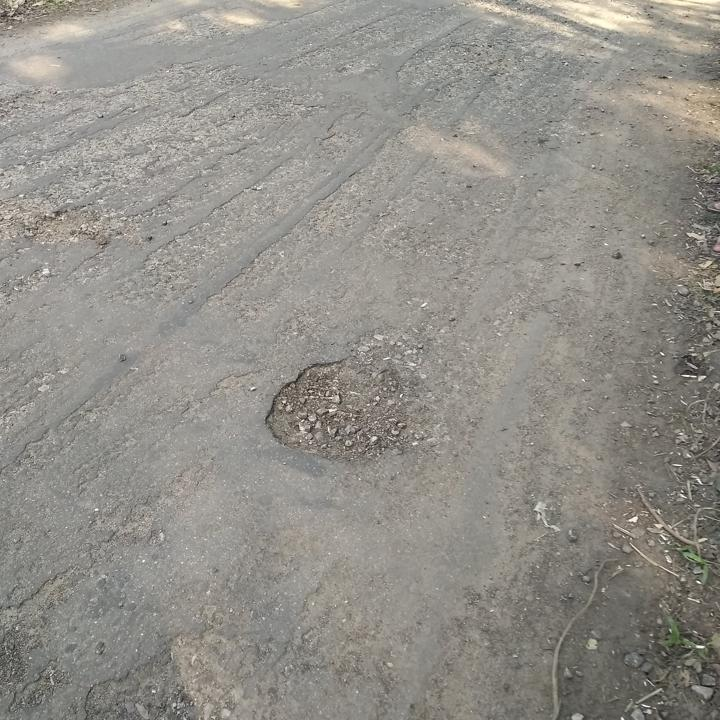pothole: (259, 354, 429, 464), (31, 201, 103, 246)
